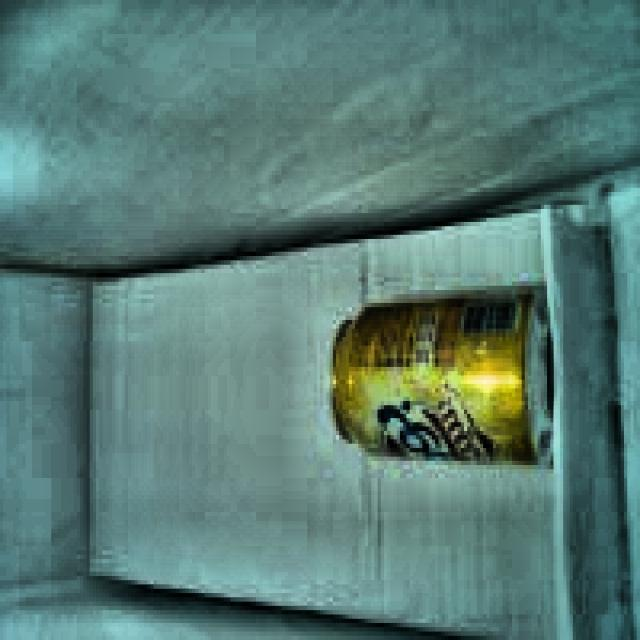Cans: (304, 266, 556, 482)
